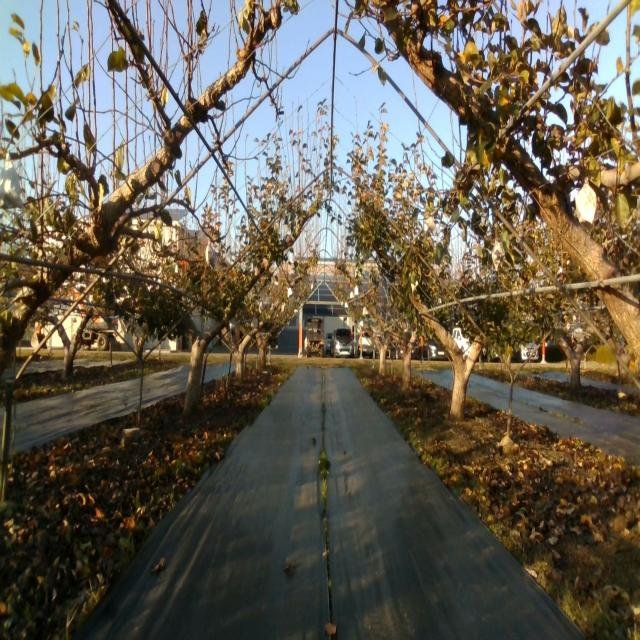pearbags: (0, 153, 24, 210), (575, 176, 597, 225), (490, 236, 505, 272), (423, 216, 438, 235), (206, 242, 216, 268)
